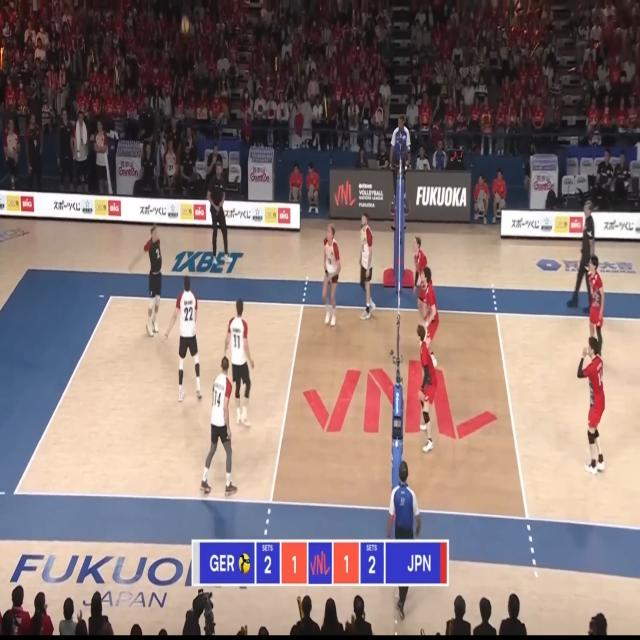ball: (182, 18, 190, 32)
